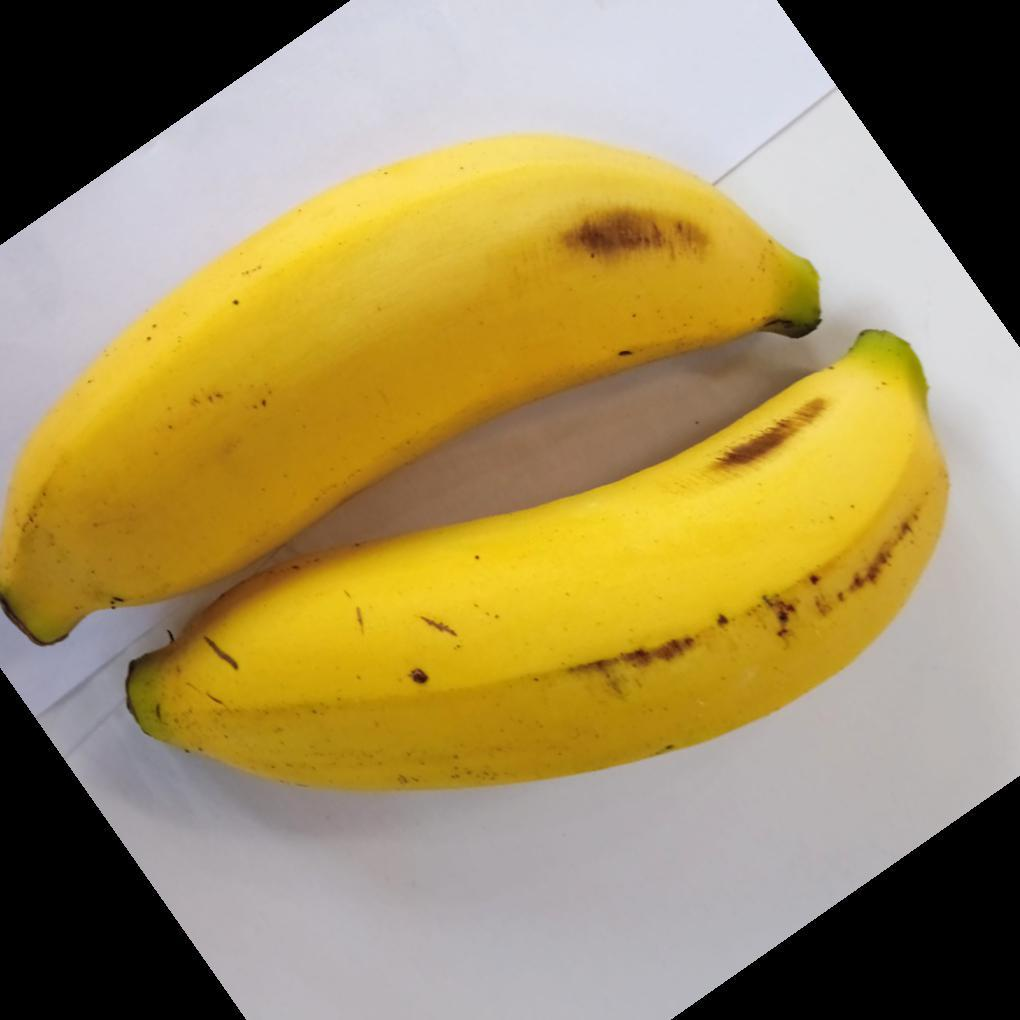Banana Ripe: (101, 283, 989, 841), (9, 156, 843, 724)
